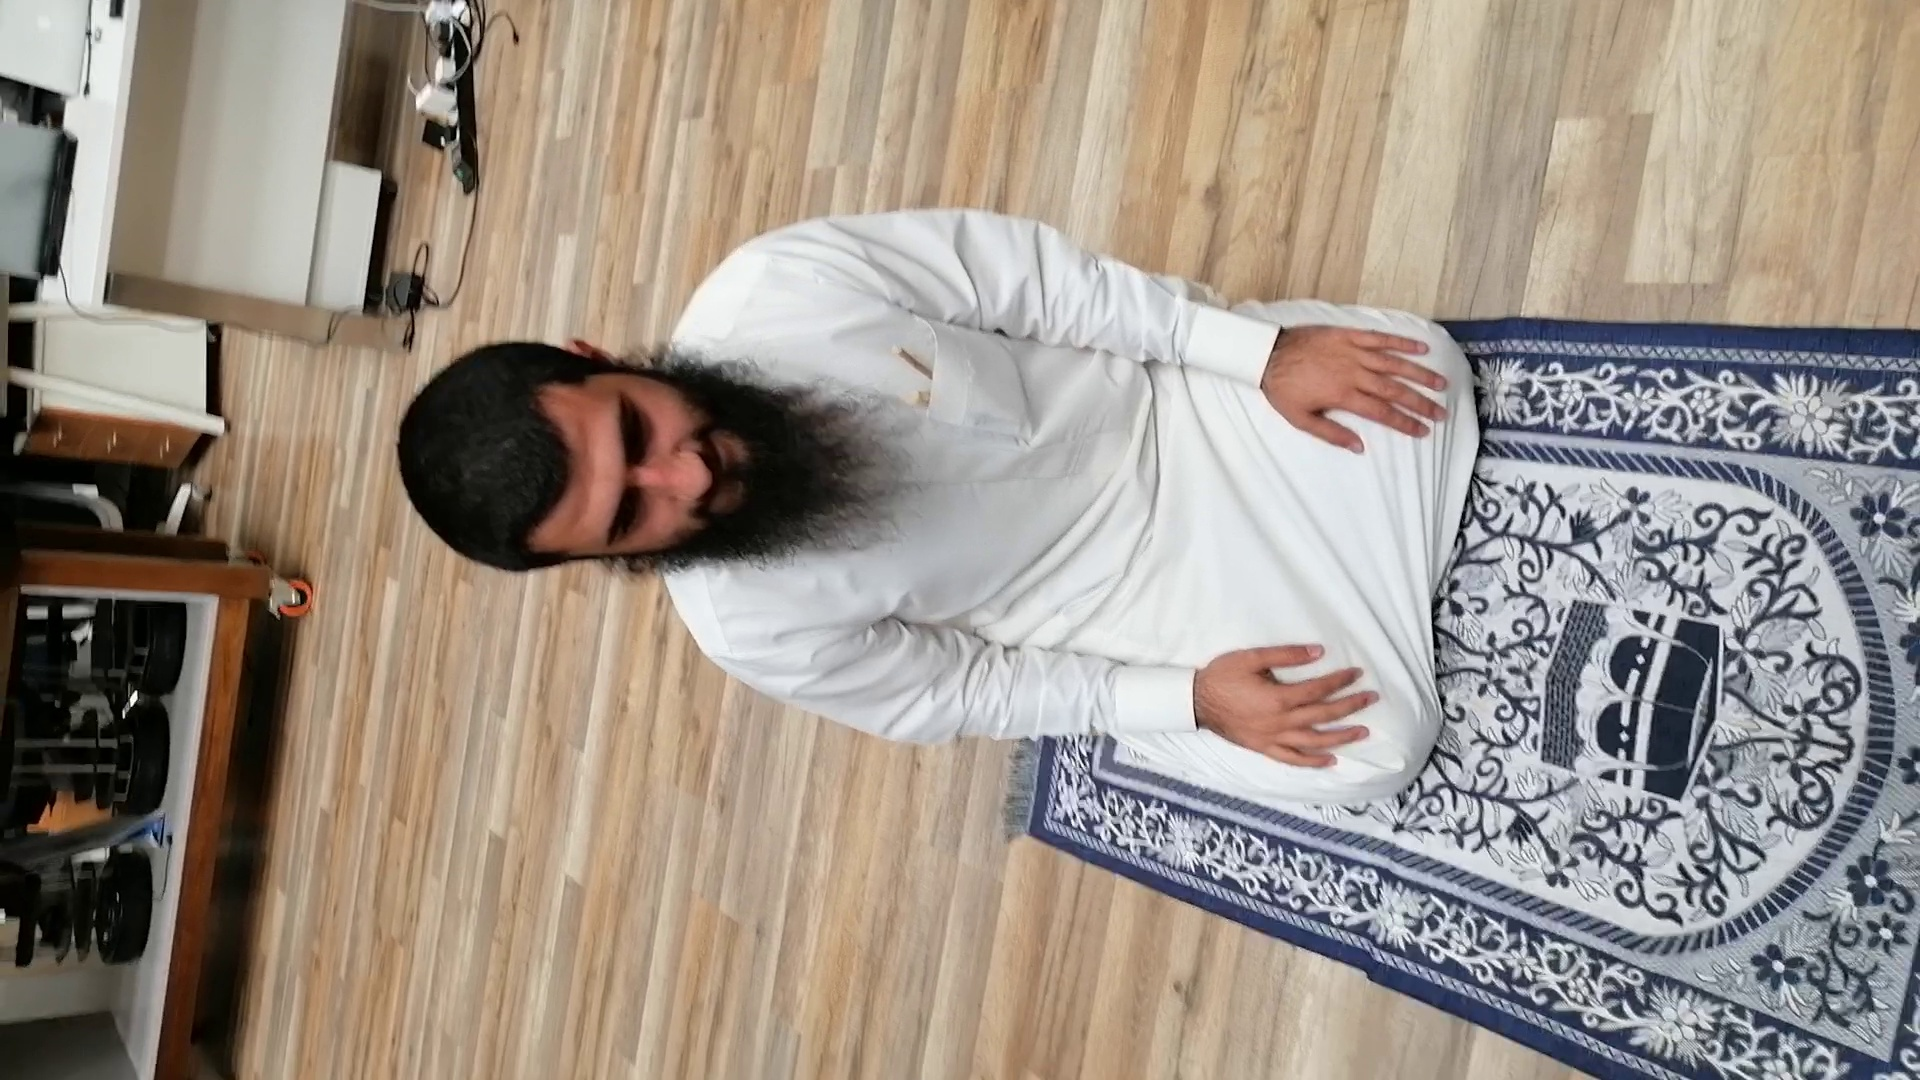sitting: (384, 199, 1542, 864)
